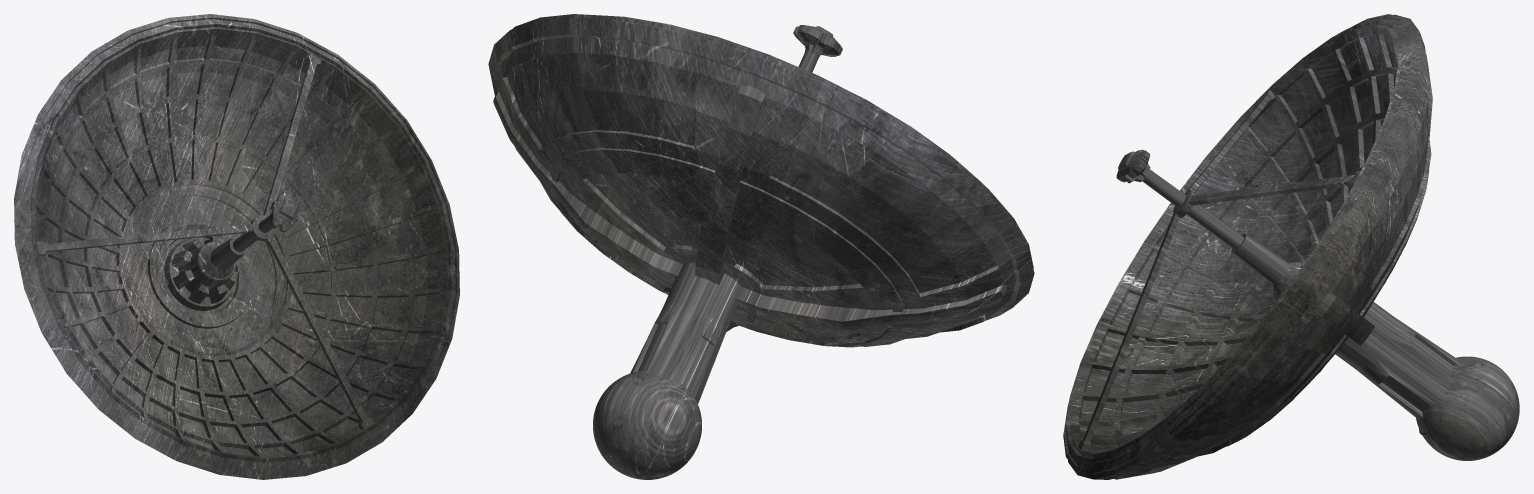
Rendered from radardish_noai.glb.
3 renders of one model, left to right at view 1: azimuth 30°, elevation 25°; view 2: azimuth 150°, elevation 25°; view 3: azimuth 270°, elevation 25°, orthographic. The views are drawn at different scales.
Parts seen in each view (by area): view 1: Signifer_-_Radar_Mount.027; view 2: Signifer_-_Radar_Mount.027; view 3: Signifer_-_Radar_Mount.027.
Part boxes in pixels (x1,y1,x2,y2): Signifer_-_Radar_Mount.027: (14,14,459,479); Signifer_-_Radar_Mount.027: (488,14,1034,479); Signifer_-_Radar_Mount.027: (1063,14,1519,479).
Bounding box in the file's own units: 2.97 × 2.38 × 2.4.
Materials: 2 (2 with a texture image).
